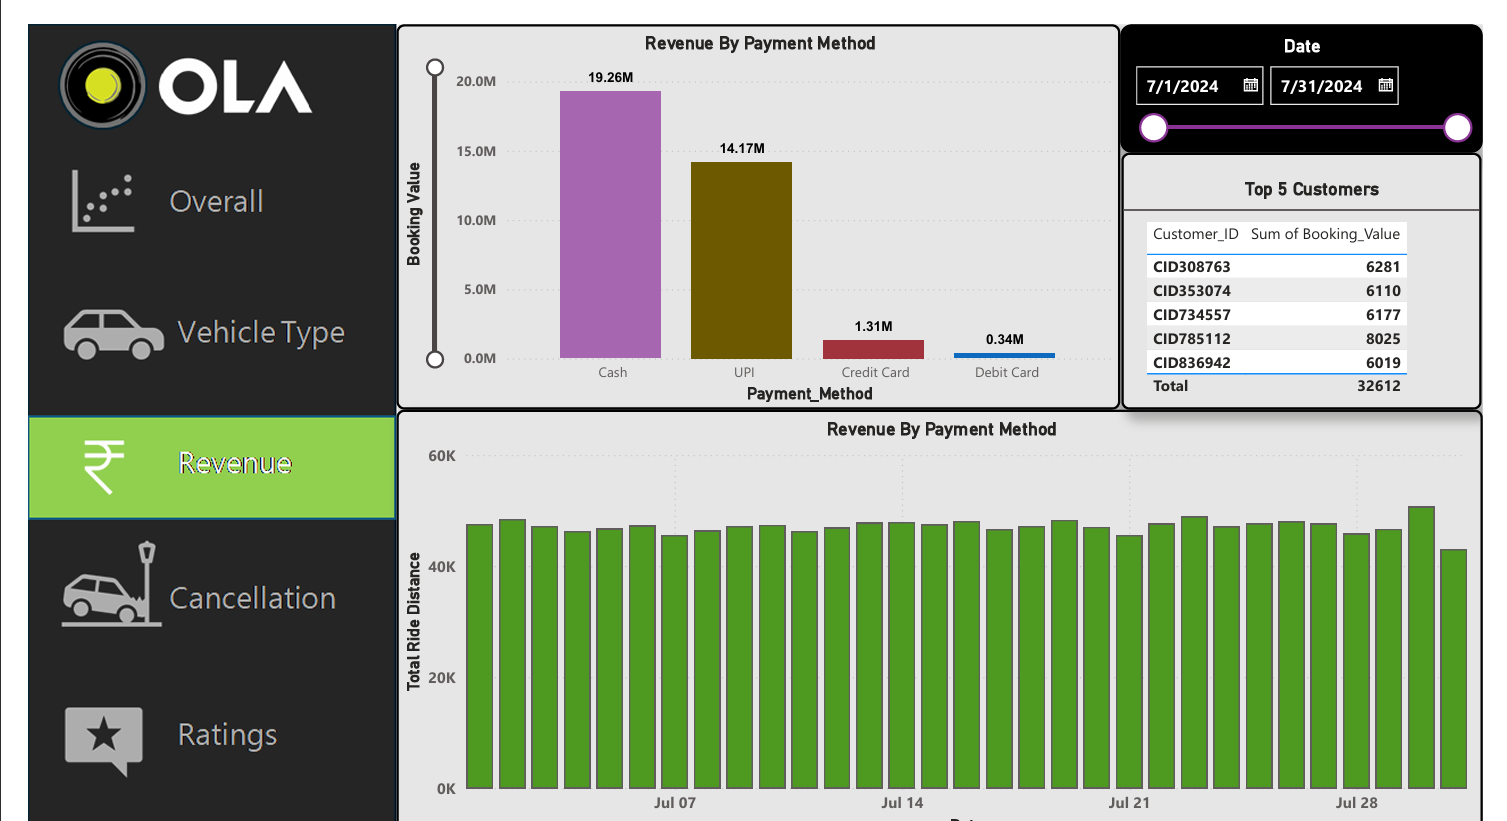

Layout of this report page (visuals, bound fields, positions):
{"tool":"powerbi","page":{"name":"Revenue","canvas":[1280,720],"ordinal":2},"visuals":[{"type":"actionButton","box":[0,216.3,324.5,92.3],"z":0},{"type":"actionButton","box":[0,437.4,324.5,111.3],"z":1},{"type":"actionButton","box":[4.8,564.7,314.9,141.6],"z":2},{"type":"actionButton","box":[0,112.9,324.5,85.9],"z":3},{"type":"columnChart","title":"Revenue By Payment Method","fields":{"Y":["Sum(July.Booking_Value)"],"Category":["July.Payment_Method"]},"box":[324.5,0,636.2,338.8],"z":4},{"type":"columnChart","title":"Revenue By Payment Method","fields":{"Y":["Sum(July.Ride_Distance)"],"Category":["July.Date"]},"box":[324.5,338.8,956,380.2],"z":5},{"type":"slicer","title":"Date","fields":{"Values":["July.Date"]},"box":[960.7,0,319.7,112.9],"z":6},{"type":"tableEx","title":"Top 5 Customers","fields":{"Values":["July.Customer_ID","Sum(July.Booking_Value)"]},"box":[962.3,112.9,316.5,225.9],"z":7}]}

Visuals, with their boxes on the page's 1280x720 design canvas (x1, y1, x2, y2). These are canvas units, not pixel positions in the 1507x821 screenshot, which may show the page scaled, cropped or inside an application window:
actionButton: 0, 216, 324, 309
actionButton: 0, 437, 324, 549
actionButton: 5, 565, 320, 706
actionButton: 0, 113, 324, 199
"Revenue By Payment Method" columnChart: 324, 0, 961, 339
"Revenue By Payment Method" columnChart: 324, 339, 1280, 719
"Date" slicer: 961, 0, 1280, 113
"Top 5 Customers" tableEx: 962, 113, 1279, 339
